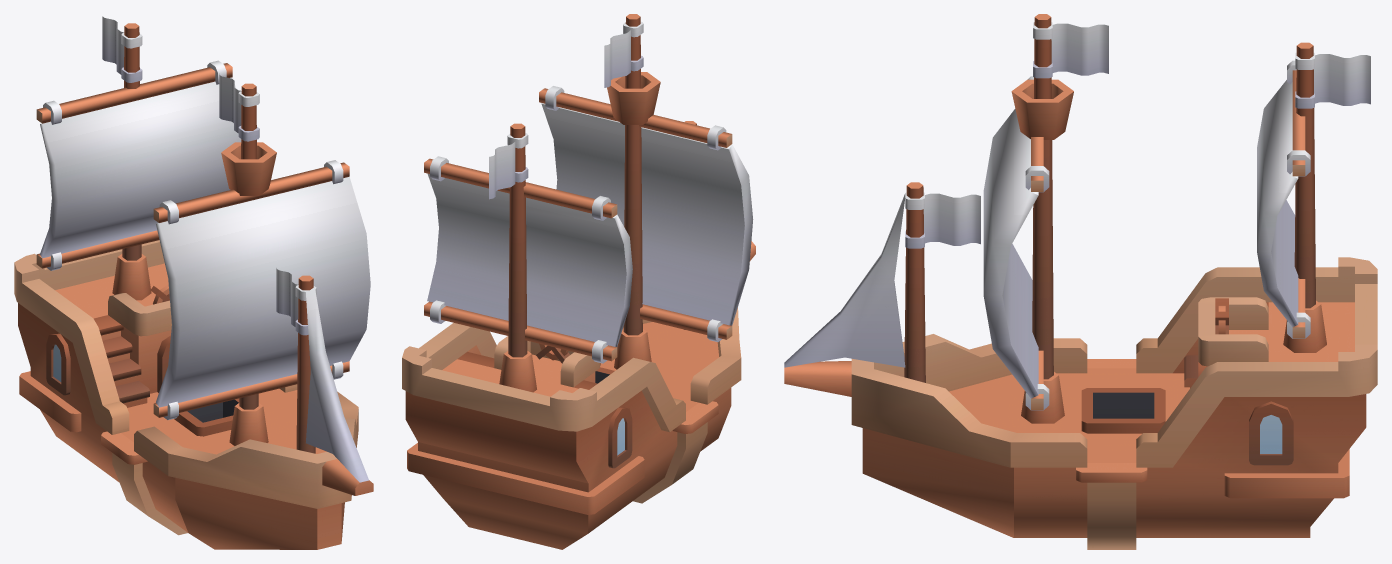
The model's file is ship-small.glb.
3 views of the same model, side by side, from view 1: azimuth 30°, elevation 25°; view 2: azimuth 150°, elevation 25°; view 3: azimuth 270°, elevation 25° (orthographic). The views are drawn at different scales.
Visible parts, largest first — view 1: ship-small; view 2: ship-small; view 3: ship-small.
Part boxes in pixels (x1,y1,x2,y2): ship-small: [14, 16, 373, 549]; ship-small: [402, 14, 755, 549]; ship-small: [784, 14, 1377, 549].
Bounding box in the file's own units: 4.8 × 9.96 × 10.6.
1 material, 1 textured.
